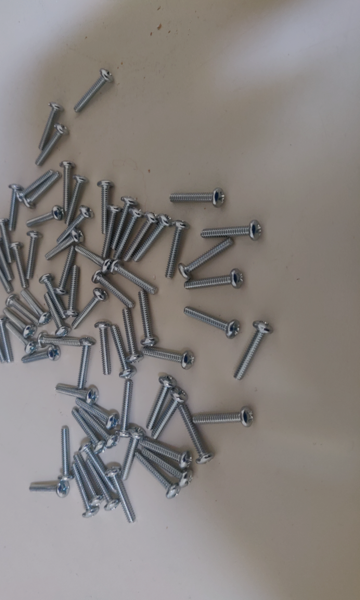longscrew: (182, 237, 233, 281), (234, 324, 271, 382), (84, 458, 120, 512), (180, 404, 210, 468), (78, 440, 114, 493), (142, 449, 191, 487), (105, 464, 136, 524), (133, 456, 178, 497), (151, 390, 187, 440), (72, 68, 113, 111), (76, 404, 116, 447), (200, 218, 268, 243), (166, 187, 234, 212), (143, 377, 174, 431), (125, 212, 158, 262), (137, 211, 170, 260), (181, 310, 242, 336), (34, 123, 68, 169), (185, 268, 249, 292), (163, 220, 188, 281), (75, 395, 121, 428), (70, 290, 108, 329), (113, 262, 159, 294), (73, 454, 101, 506), (71, 407, 103, 452), (56, 206, 93, 243), (89, 274, 134, 304), (61, 175, 88, 225), (138, 287, 161, 345), (142, 436, 193, 462), (15, 168, 55, 201), (119, 305, 142, 362), (112, 197, 137, 249), (121, 208, 145, 261), (24, 173, 59, 209), (112, 321, 134, 378), (44, 231, 84, 262), (73, 467, 97, 518), (123, 427, 144, 482), (43, 275, 68, 321), (142, 347, 196, 368), (54, 381, 99, 406), (100, 204, 120, 257), (97, 181, 117, 234), (75, 334, 94, 389), (37, 103, 60, 148), (195, 410, 259, 426), (25, 203, 64, 229), (118, 380, 135, 439), (75, 244, 112, 271), (5, 295, 37, 326), (0, 312, 18, 366), (6, 321, 36, 353), (57, 247, 77, 293), (21, 292, 48, 326), (12, 239, 29, 292), (65, 265, 83, 315), (4, 184, 23, 229), (43, 293, 63, 334), (96, 317, 109, 378), (27, 231, 43, 279), (40, 332, 81, 350), (3, 310, 31, 336), (30, 479, 73, 495), (60, 425, 72, 481), (21, 347, 63, 362), (0, 219, 14, 263), (60, 160, 72, 210), (0, 241, 12, 281), (0, 255, 11, 295), (0, 317, 6, 366)
